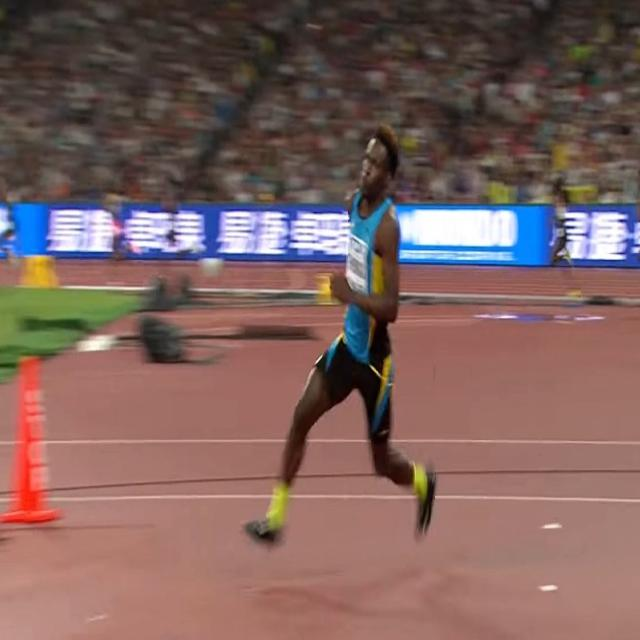run: (241, 124, 436, 543)
